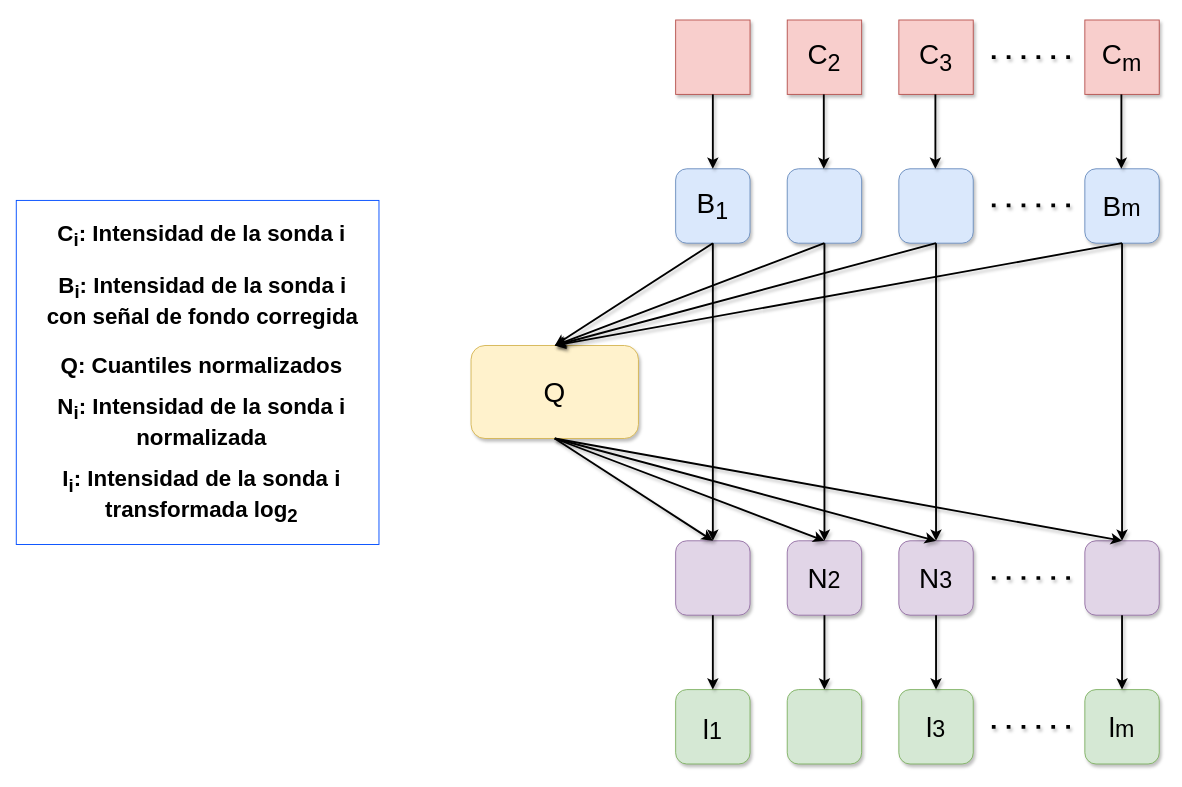
This 1182x787 diagram has some shape labels left out. The centre of each missing label's shape, as x and y in pixels:
"B 2" belongs at (825,207).
"B 3" belongs at (936,207).
"C 1" belongs at (713,58).
"l2" belongs at (825,728).
"N 1" belongs at (713,579).
"N m" belongs at (1122,579).
